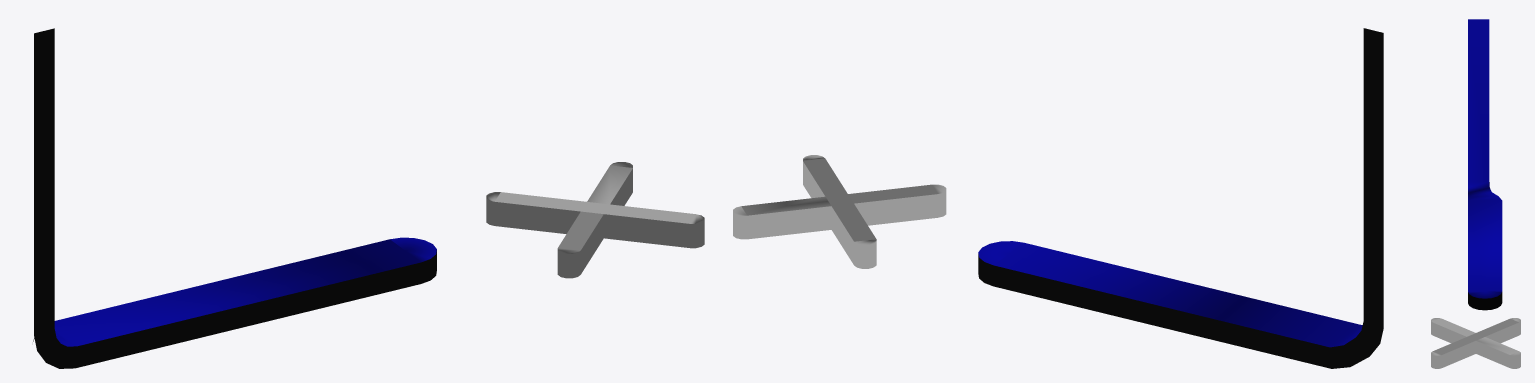
Rendered from OffGridPowerflow.glb.
3 renders of one model, left to right at view 1: azimuth 30°, elevation 25°; view 2: azimuth 150°, elevation 25°; view 3: azimuth 270°, elevation 25°, orthographic. The views are drawn at different scales.
Parts seen in each view (by area): view 1: PowerflowGridBroken-Display, OffGridX; view 2: PowerflowGridBroken-Display, OffGridX; view 3: PowerflowGridBroken-Display, OffGridX.
Boxes of the visible parts, box(x1,y1,x2,y2) form: PowerflowGridBroken-Display: box(33, 28, 436, 368); OffGridX: box(486, 162, 704, 278); PowerflowGridBroken-Display: box(978, 28, 1383, 368); OffGridX: box(733, 155, 946, 268); PowerflowGridBroken-Display: box(1468, 19, 1502, 310); OffGridX: box(1431, 318, 1520, 368).
Size of the model in its own units: 0.6218 by 0.32 by 0.1395.
